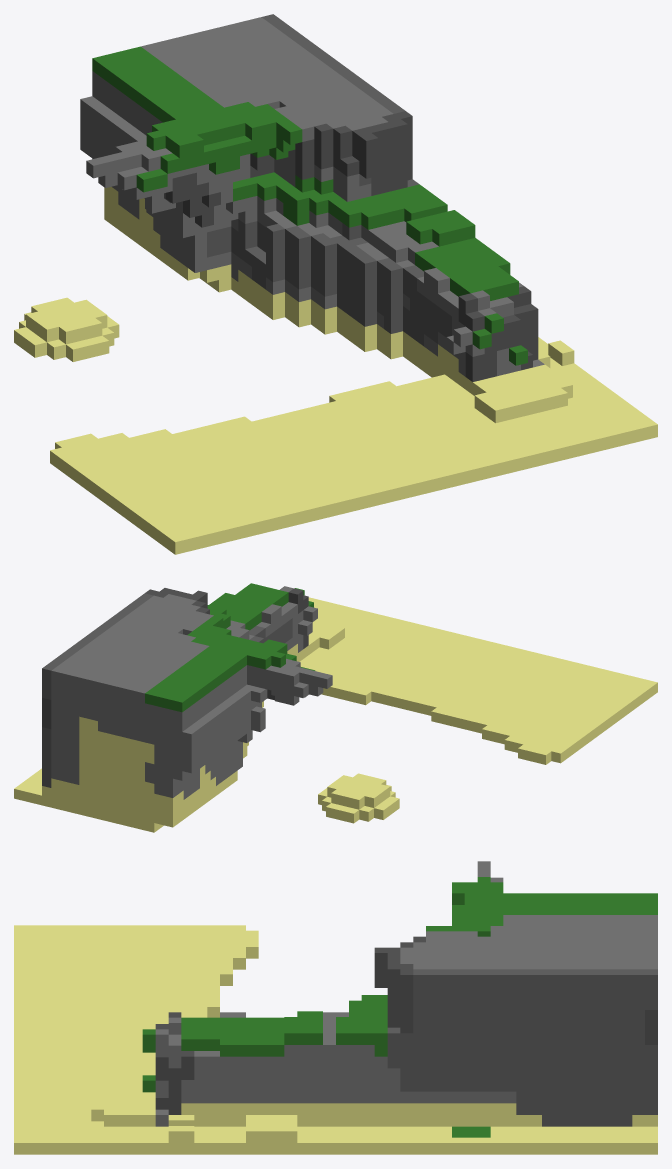
File: beach14.obj
3 views of the same model, one above another, from view 1: azimuth 30°, elevation 25°; view 2: azimuth 150°, elevation 25°; view 3: azimuth 270°, elevation 25° (orthographic). The views are drawn at different scales.
Bounding box in the file's own units: 4 × 1.4 × 5.
1 material, 1 textured.
